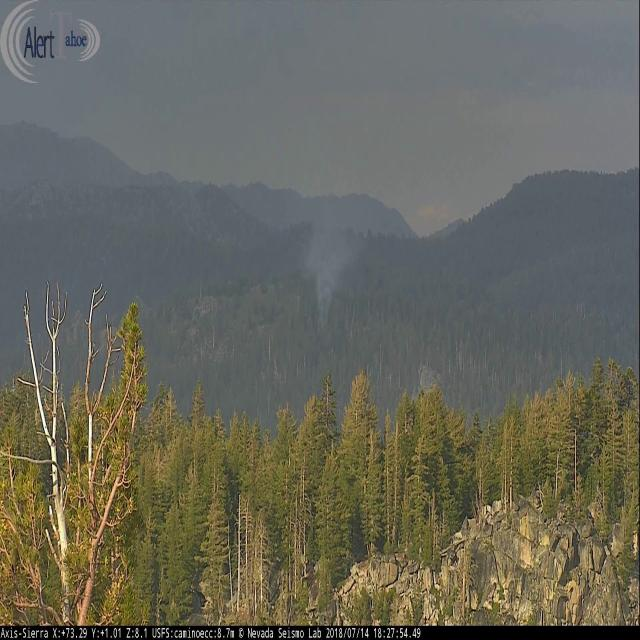smoke: (297, 174, 368, 334)
